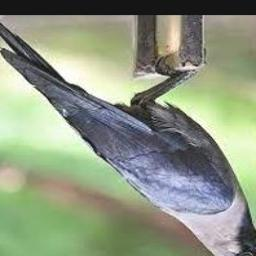Crow: (0, 20, 256, 256)
